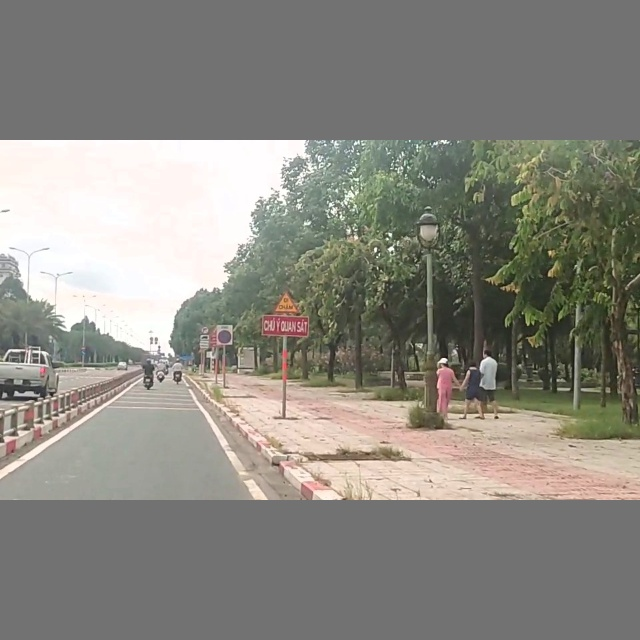P.123b: (201, 326, 209, 333)
P.130: (215, 325, 235, 345)
S.505a*Xe tai: (199, 333, 211, 349)
W.245a: (272, 290, 301, 315)
